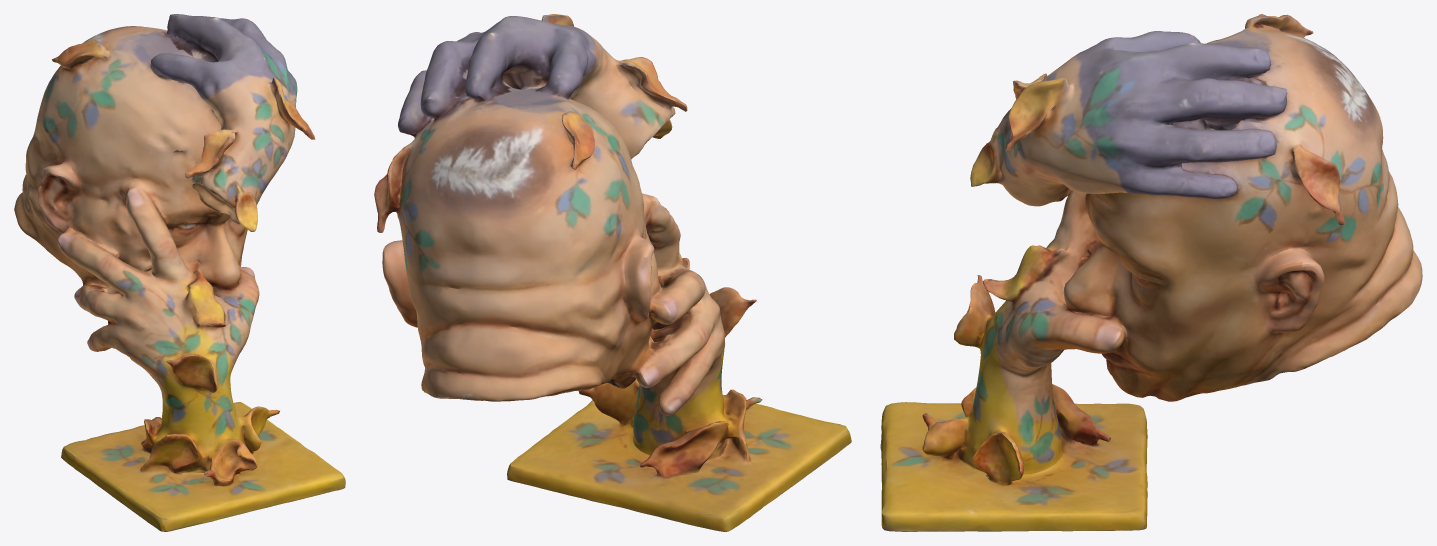
The model's file is head-e.glb.
The picture shows the model from 3 angles, left to right: view 1: azimuth 30°, elevation 25°; view 2: azimuth 150°, elevation 25°; view 3: azimuth 270°, elevation 25°; orthographic projection. The views are drawn at different scales.
Visible parts, largest first — view 1: HeadE_LOW; view 2: HeadE_LOW; view 3: HeadE_LOW.
Part boxes in pixels (x1,y1,x2,y2): HeadE_LOW: (14, 14, 345, 531); HeadE_LOW: (374, 14, 851, 531); HeadE_LOW: (880, 14, 1422, 531).
Size of the model in its own units: 12.07 by 18.46 by 18.78.
Materials: 1 (1 with a texture image).
